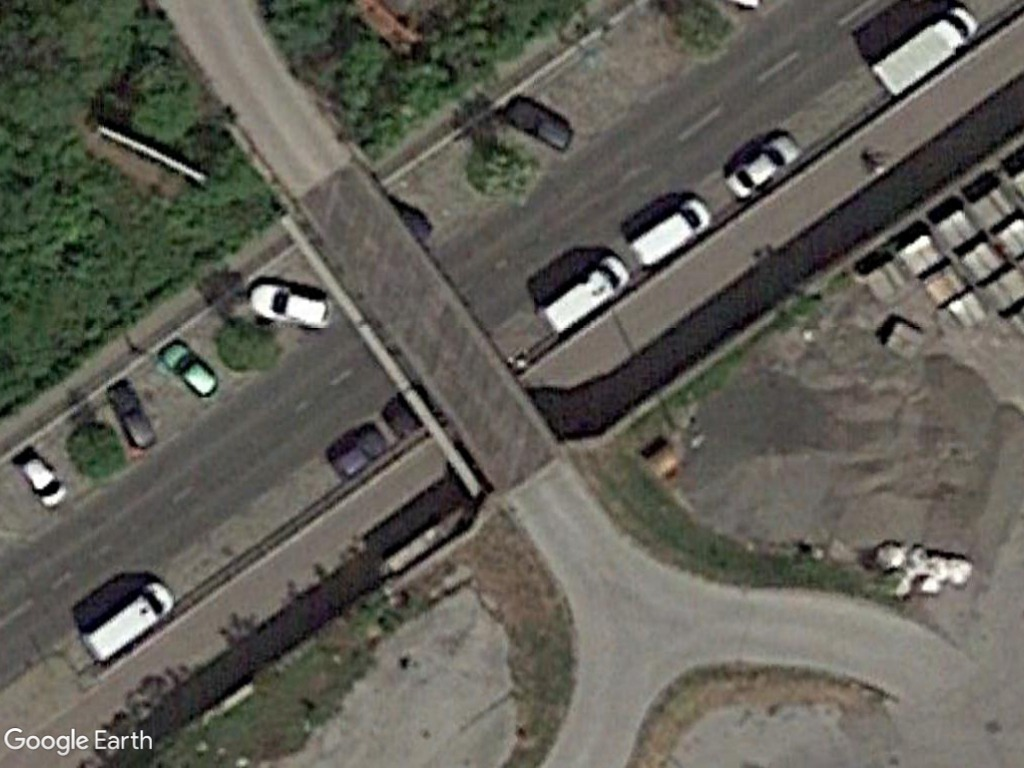car: (723, 126, 806, 208), (242, 278, 342, 334), (155, 334, 224, 404), (108, 389, 162, 460), (11, 452, 73, 512)
truck: (870, 0, 980, 104)
van: (75, 573, 175, 670), (535, 246, 633, 341), (626, 192, 716, 272)
